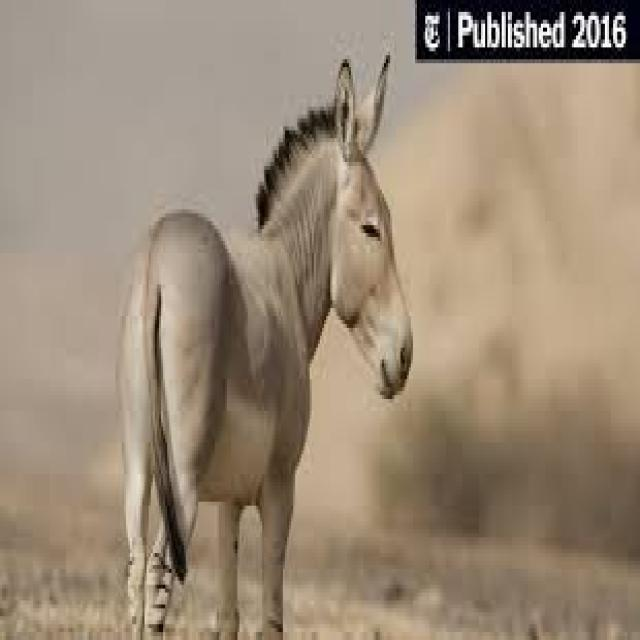Donkey: (108, 39, 415, 639)
